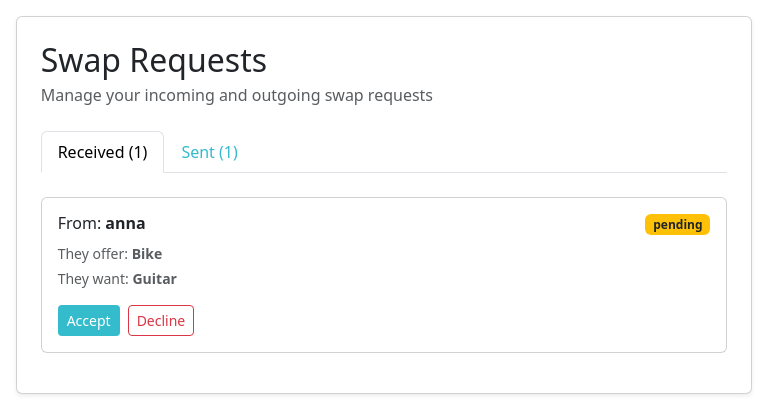
SwapRequestsPage › switches to the sent tab
expect the heading "From: anna" is shown: met, box [58,214,146,234]
Click the button "Sent (1)" at (210, 152), box [164,131,255,173]
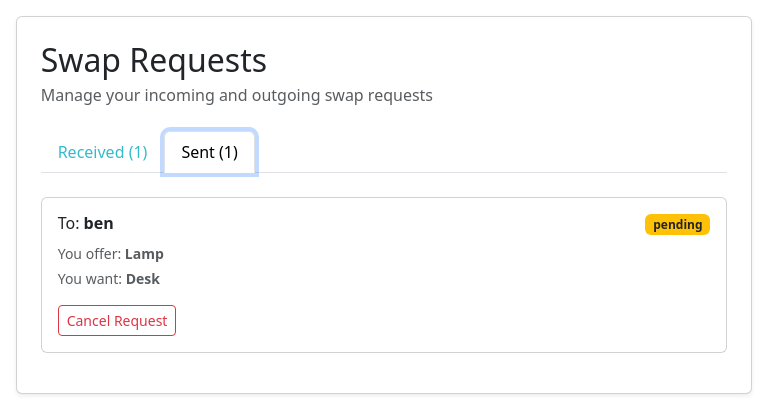
expect the heading "To: ben" is shown: met, box [58,214,114,234]
expect the text "ben" is shown: met, box [84,212,114,234]
